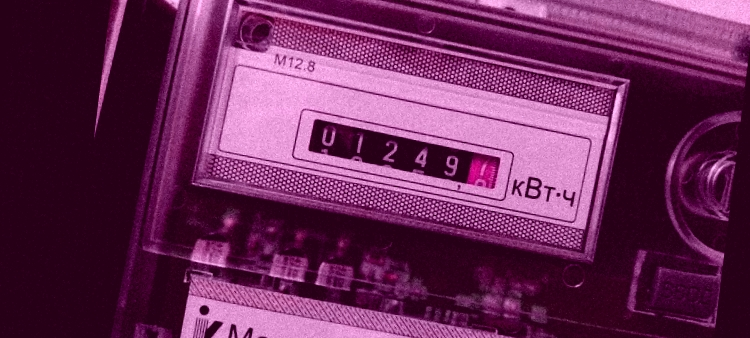0: (319, 120, 339, 148)
1: (350, 127, 367, 155)
2: (379, 137, 399, 165)
4: (412, 142, 431, 168)
7: (475, 151, 493, 178)
9: (440, 150, 460, 178)
screen: (287, 105, 519, 205)
